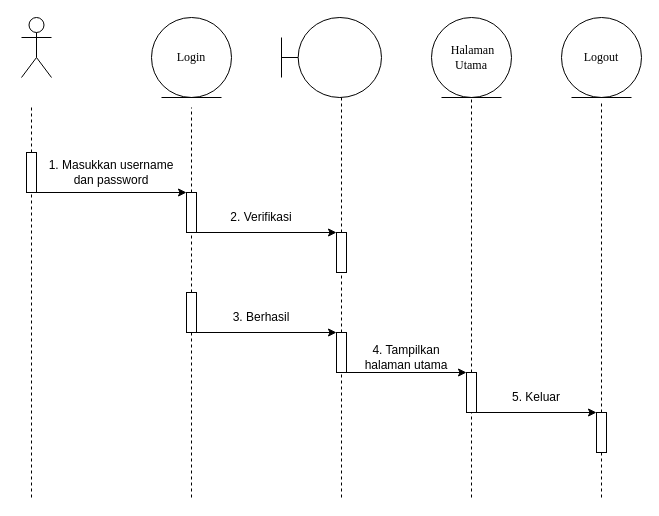
This 659x516 diagram has some shape labels left out. The box of each missing label's shape, as (x1, y1, x2, y2) in pixels:
Menu: (280, 16, 382, 98)
Pemilik: (20, 16, 52, 78)
